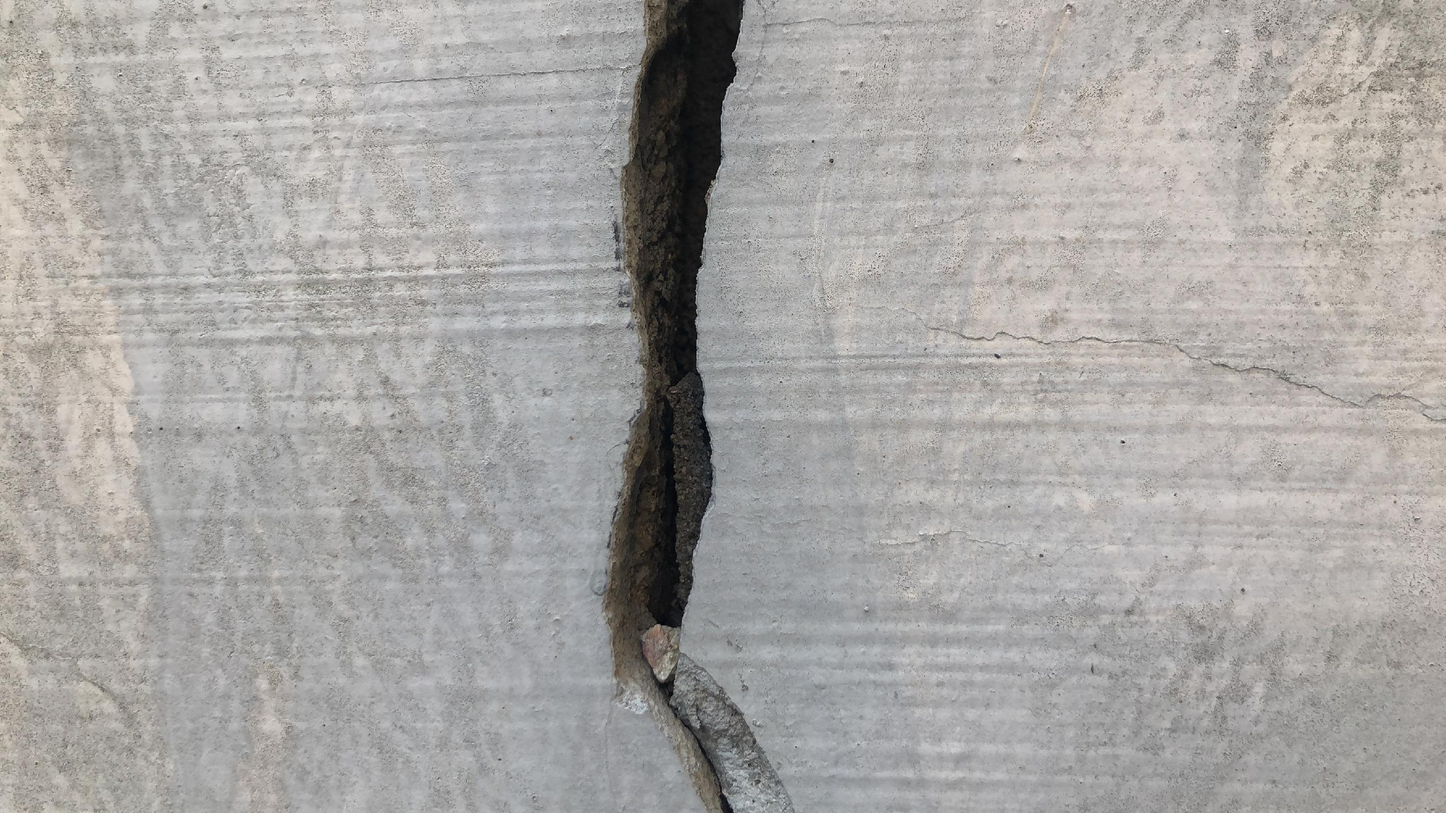crack: (618, 4, 755, 809)
